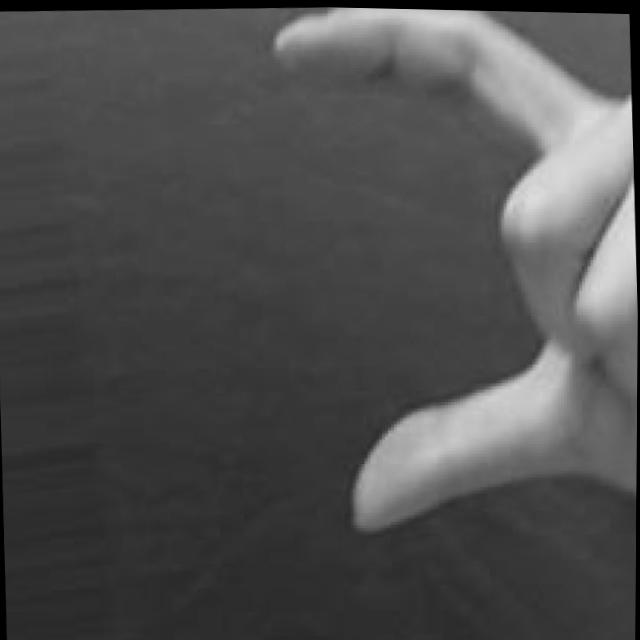C: (262, 6, 640, 545)
